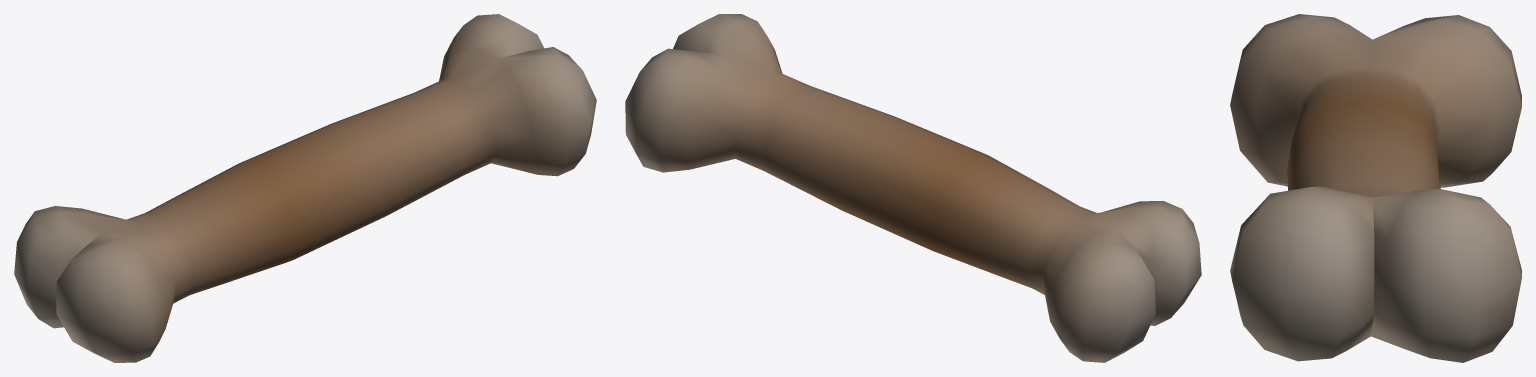
File: chicken_bone.glb
The picture shows the model from 3 angles, left to right: view 1: azimuth 30°, elevation 25°; view 2: azimuth 150°, elevation 25°; view 3: azimuth 270°, elevation 25°; orthographic projection. The views are drawn at different scales.
Parts seen in each view (by area): view 1: geometry_0; view 2: geometry_0; view 3: geometry_0.
Boxes of the visible parts, <box> form: geometry_0: <box>14,14,596,362</box>; geometry_0: <box>625,14,1201,362</box>; geometry_0: <box>1230,14,1521,362</box>.
Size of the model in its own units: 0.1106 by 0.0403 by 0.0386.
1 material, 1 textured.
